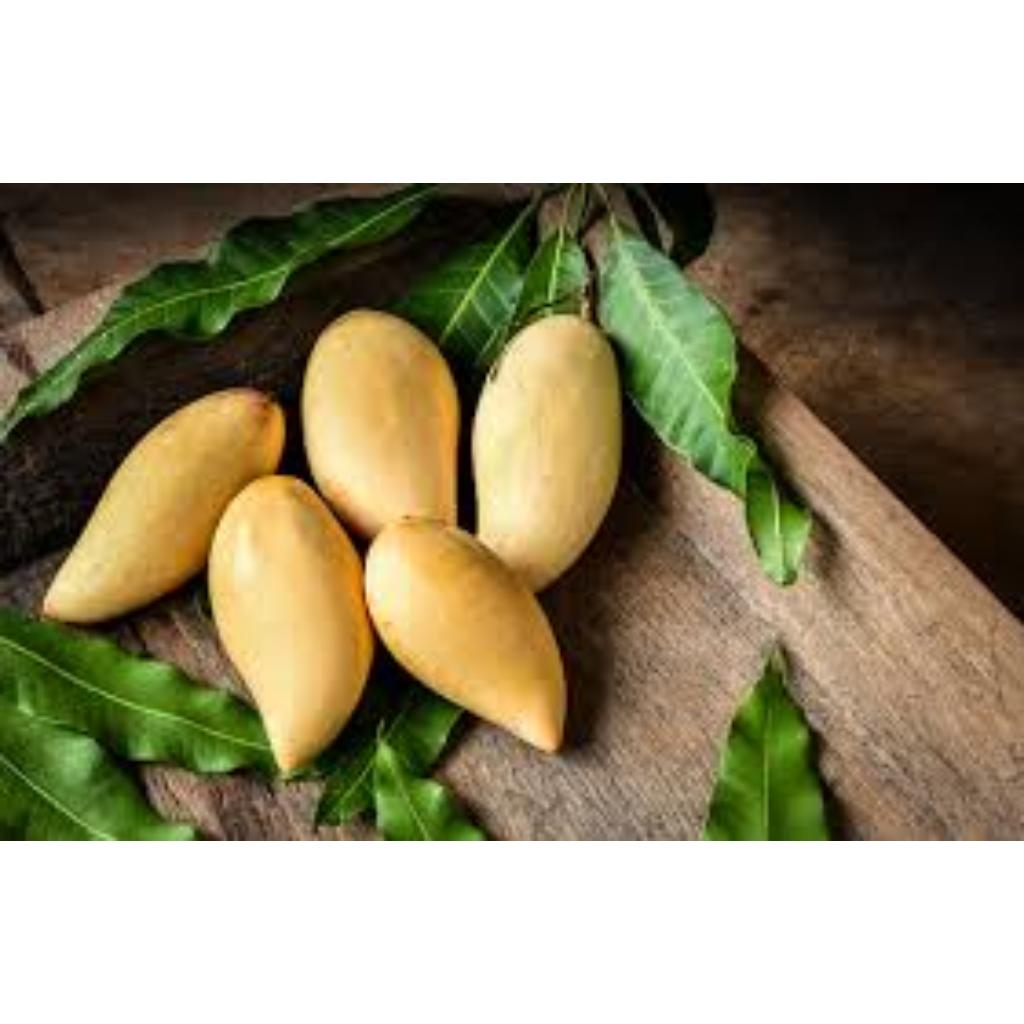mango: (40, 384, 286, 614), (362, 519, 571, 754), (215, 479, 372, 766), (468, 312, 625, 591), (299, 311, 459, 546)
